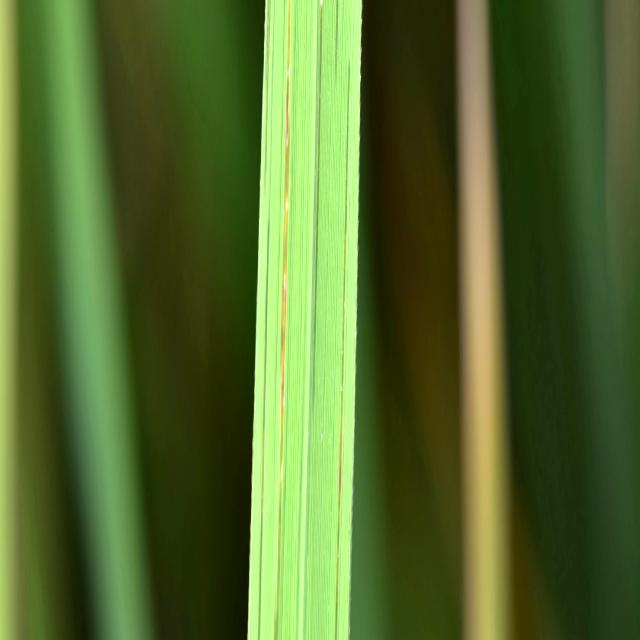BLS: (274, 0, 290, 638), (334, 56, 350, 638), (312, 0, 324, 396), (257, 337, 265, 638), (264, 0, 270, 204), (265, 232, 268, 311), (335, 0, 338, 66), (332, 0, 333, 35)
